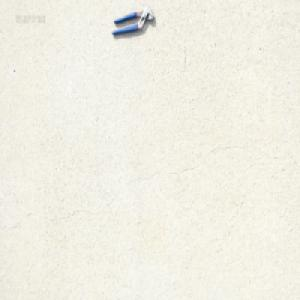Pliers: (111, 7, 155, 35)
